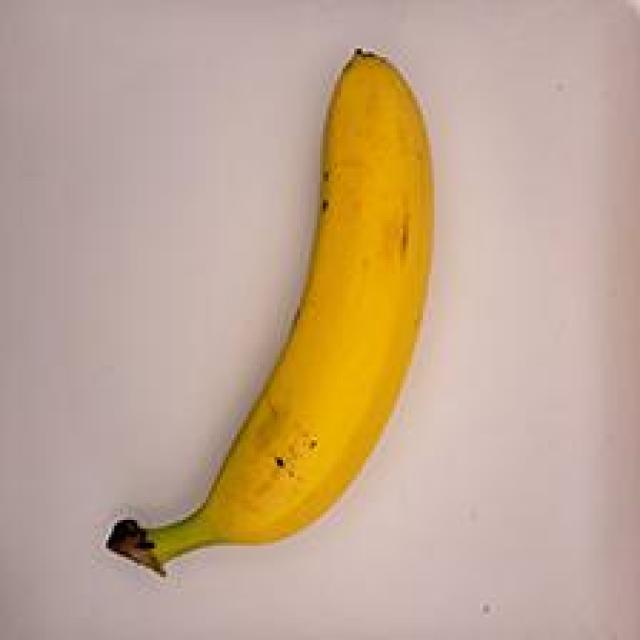ripe: (105, 28, 473, 593)
